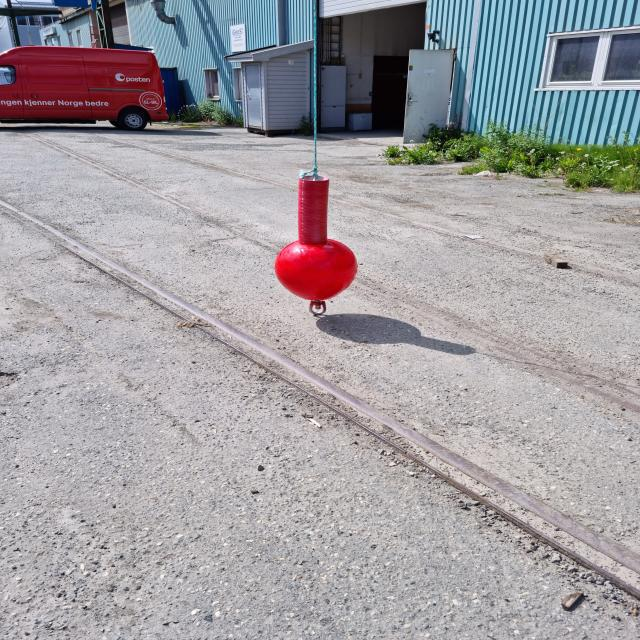red: (274, 176, 359, 302)
